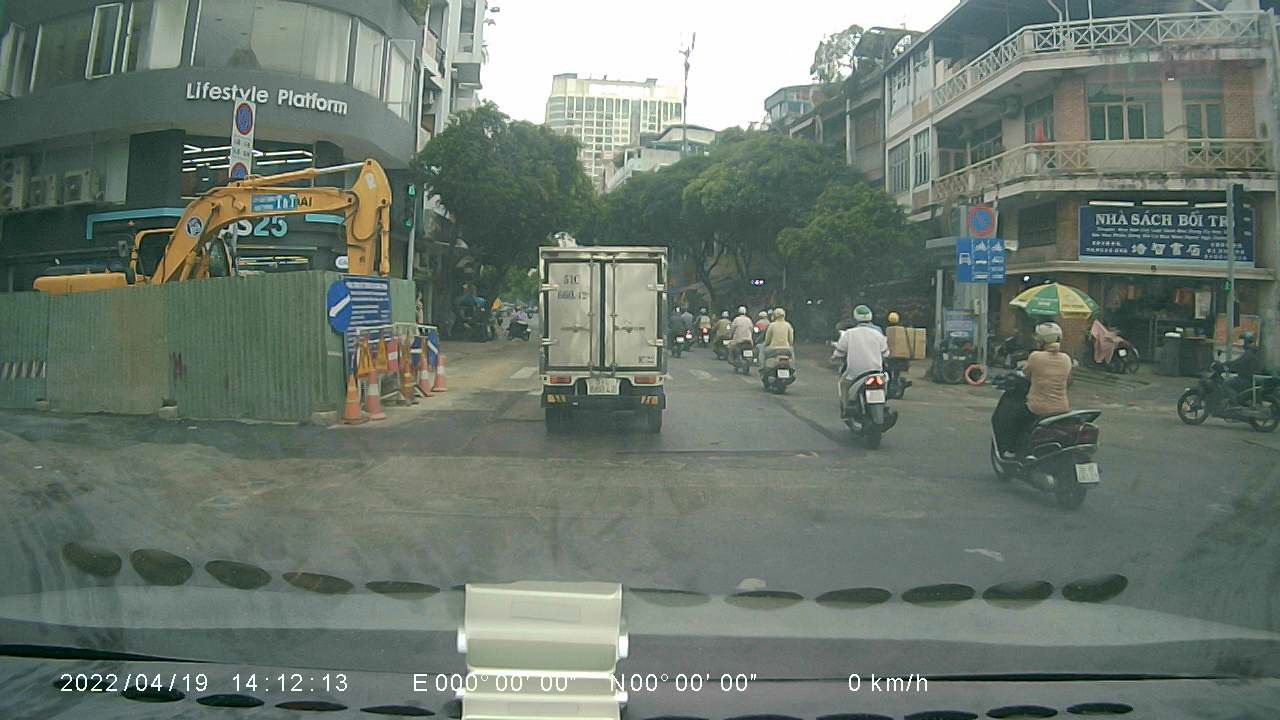Cam do xe: (968, 200, 998, 238)
